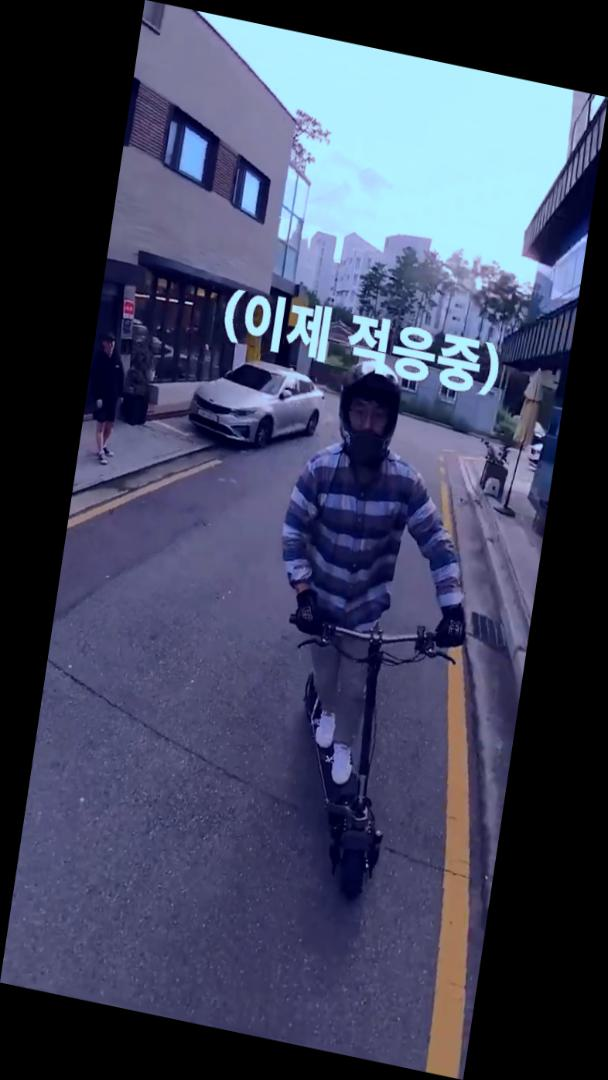helmet: (231, 344, 505, 919)
